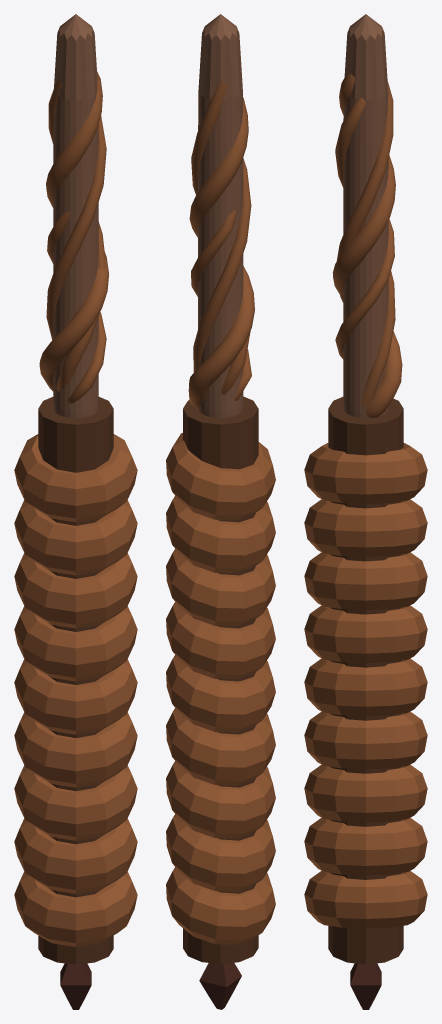
File: Wand 475.glb
3 views of the same model, side by side, from view 1: azimuth 90°, elevation 25°; view 2: azimuth 150°, elevation 25°; view 3: azimuth 270°, elevation 25° (orthographic).
Visible parts, largest first — view 1: GeneratedWand; view 2: GeneratedWand; view 3: GeneratedWand.
Boxes of the visible parts, x1,y1,x2,y2 form: GeneratedWand: (14, 14, 137, 1009); GeneratedWand: (166, 14, 275, 1009); GeneratedWand: (304, 14, 427, 1009).
Size of the model in its own units: 0.0497 by 0.5171 by 0.0581.
